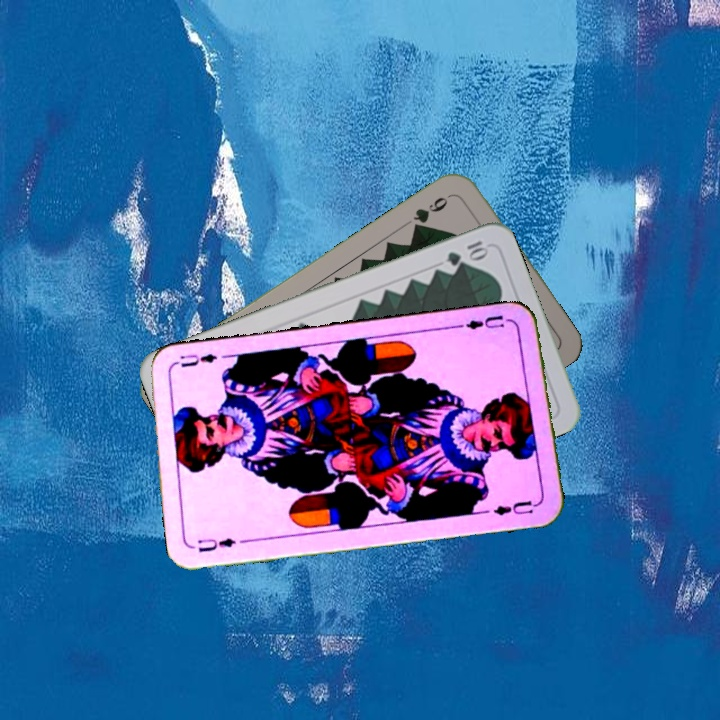EU: (456, 311, 507, 337), (194, 533, 239, 555)
G10: (442, 236, 491, 269)
G9: (409, 189, 457, 234)
